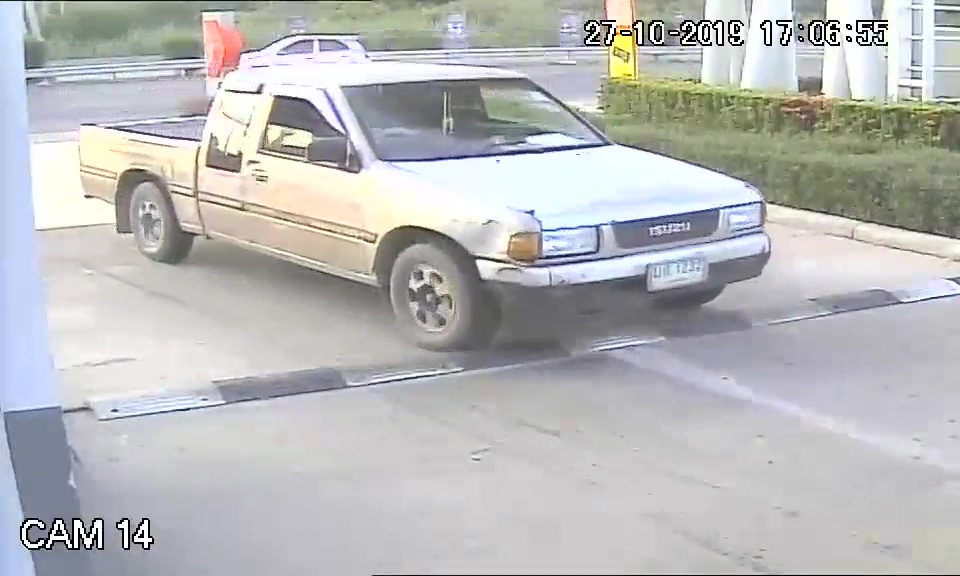pickup: (72, 60, 775, 353)
